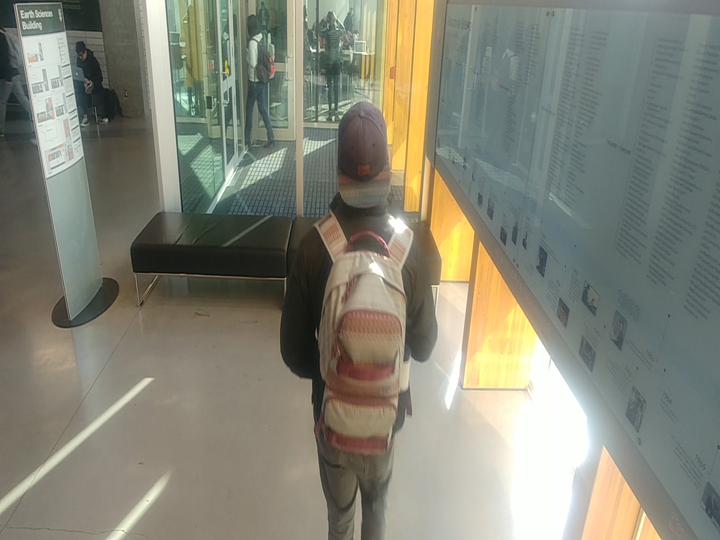face: (328, 96, 404, 214), (240, 10, 268, 43), (68, 34, 93, 64), (320, 5, 340, 31)
human: (275, 96, 447, 540), (239, 10, 282, 160), (71, 37, 112, 130), (317, 7, 349, 123)
